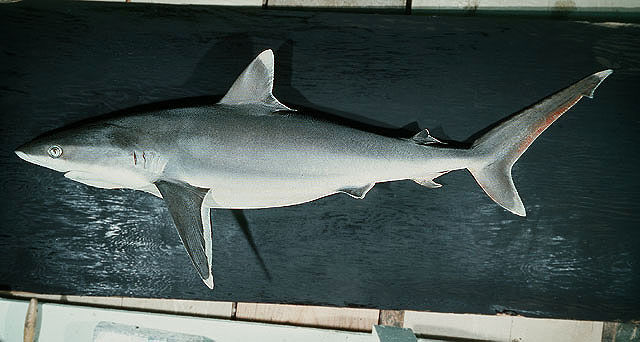fish: (15, 49, 614, 292)
